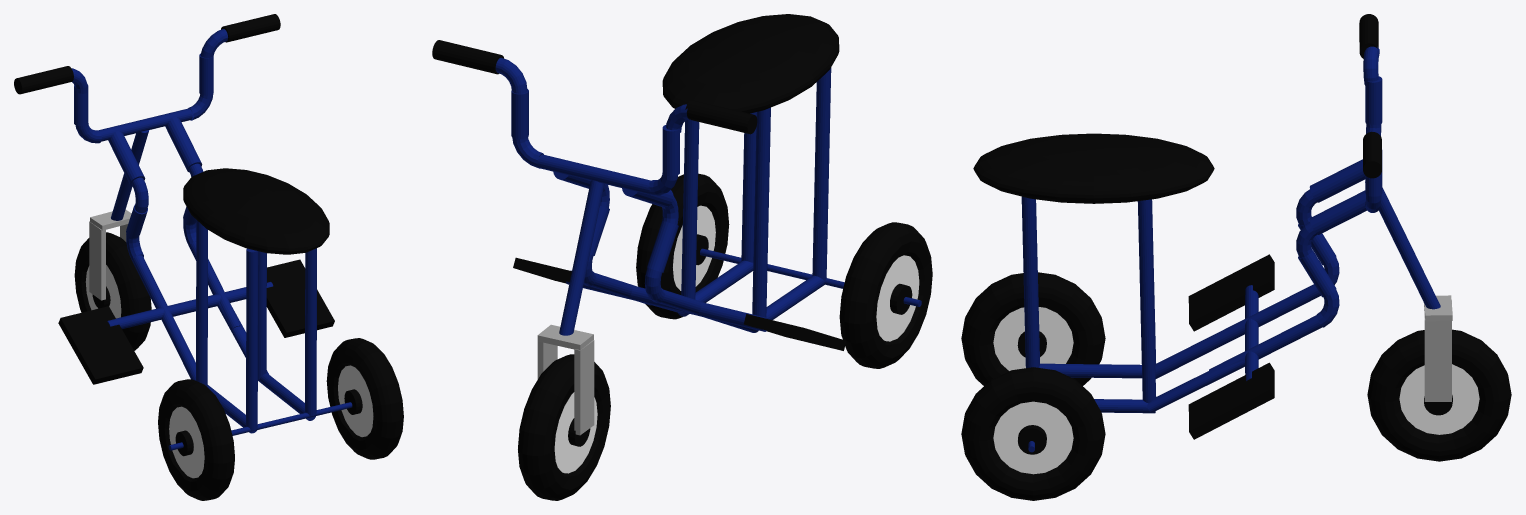
Rendered from tricycle.fbx.
3 renders of one model, left to right at view 1: azimuth 30°, elevation 25°; view 2: azimuth 150°, elevation 25°; view 3: azimuth 270°, elevation 25°, orthographic. The views are drawn at different scales.
Parts seen in each view (by area): view 1: polySurface3; view 2: polySurface3; view 3: polySurface3.
Part boxes in pixels (left/top/right/bottom): polySurface3: left=14, top=14, right=403, bottom=500; polySurface3: left=432, top=14, right=932, bottom=500; polySurface3: left=961, top=14, right=1511, bottom=500.
Size of the model in its own units: 51.98 by 61.71 by 82.06.
Materials: 4 (3 with a texture image).
